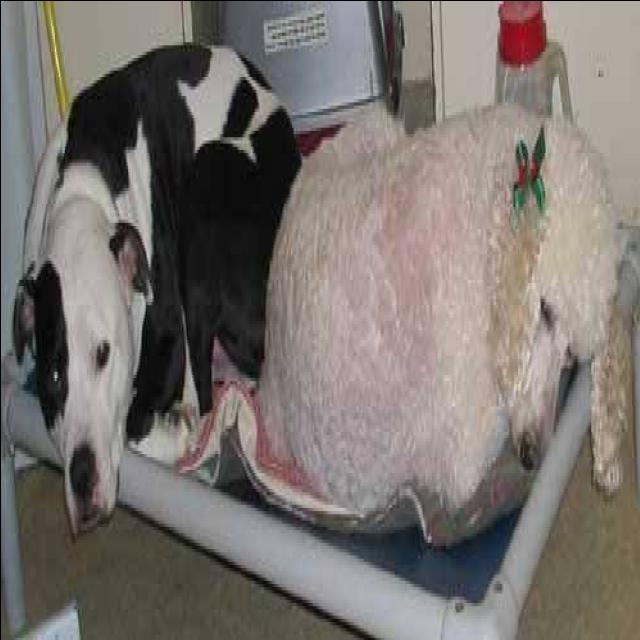dog: (9, 32, 292, 550)
